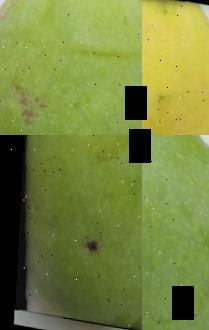Ripe: (142, 0, 209, 135)
Unripe: (0, 135, 142, 330), (0, 0, 142, 135), (142, 135, 209, 330)
